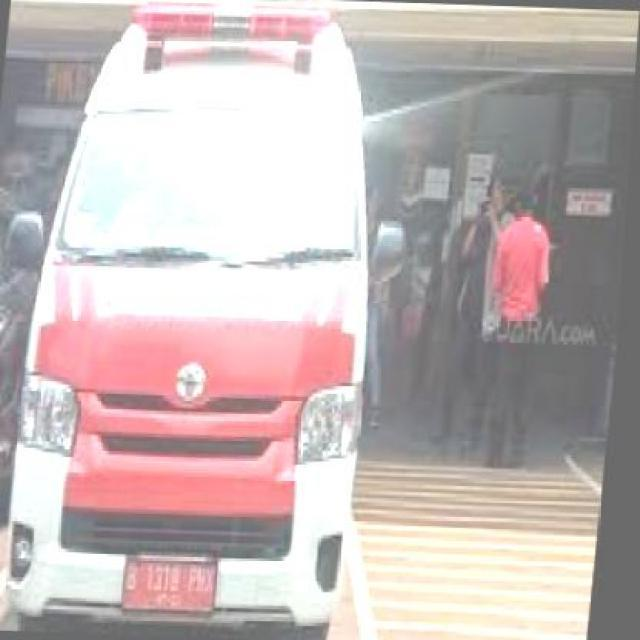emergency-vehicle: (1, 0, 401, 638)
